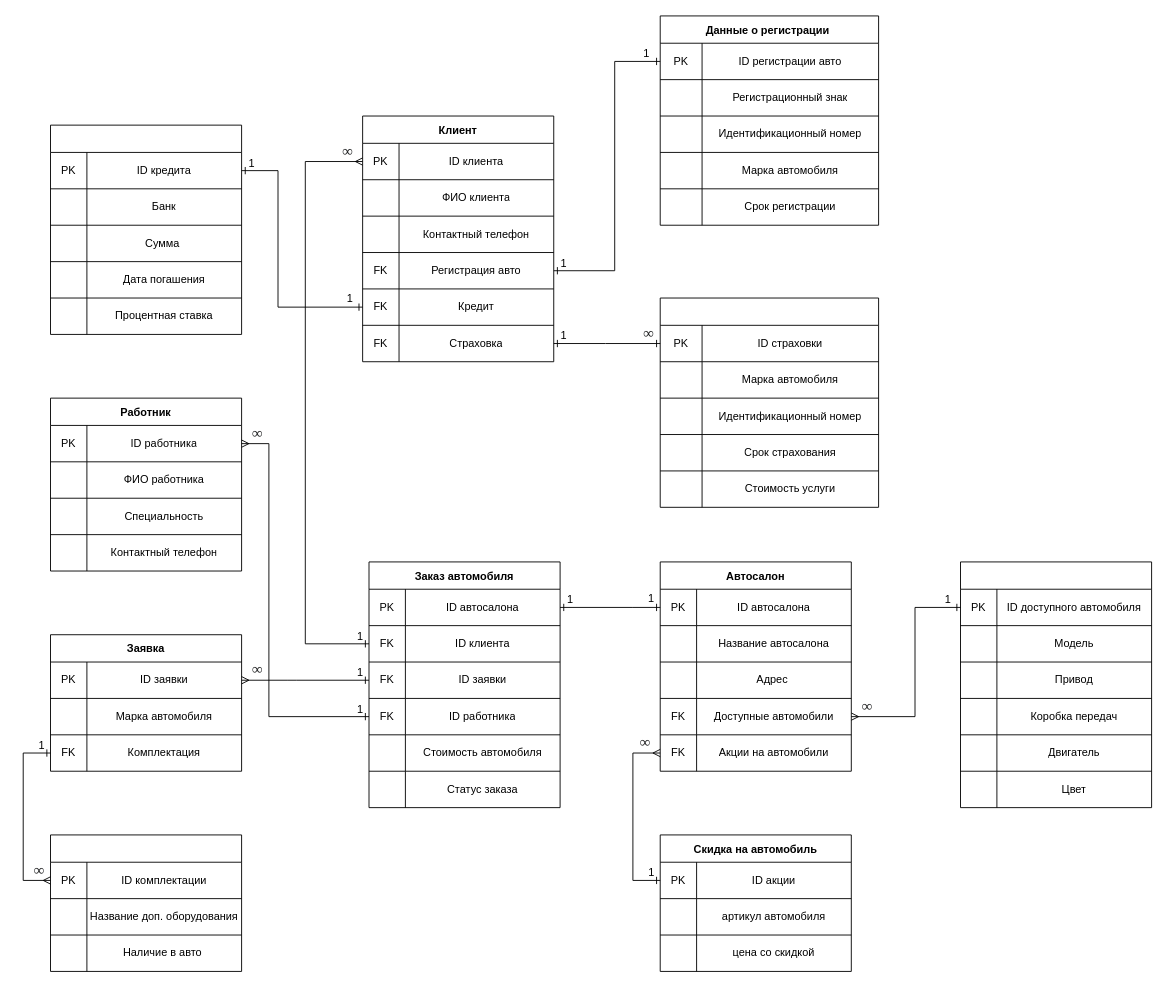
Image size: 1168x987. Some labels were removed from this diagram. Each missing label, with the box of its shape:
Автомобиль в наличии: (960, 561, 1152, 808)
Данные о кредите: (50, 124, 242, 334)
Данные о страховке: (659, 297, 879, 507)
Комплектация: (50, 834, 242, 971)
